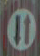Two way: (3, 3, 39, 54)
